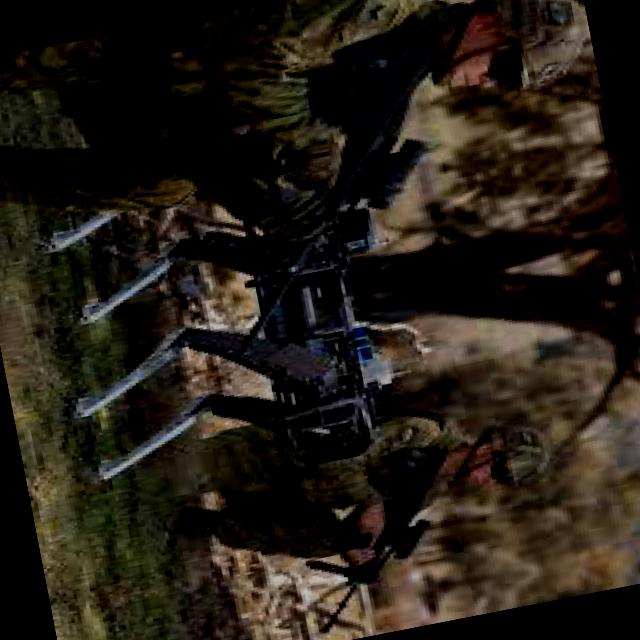long weapon: (144, 48, 470, 356), (271, 439, 469, 639)
